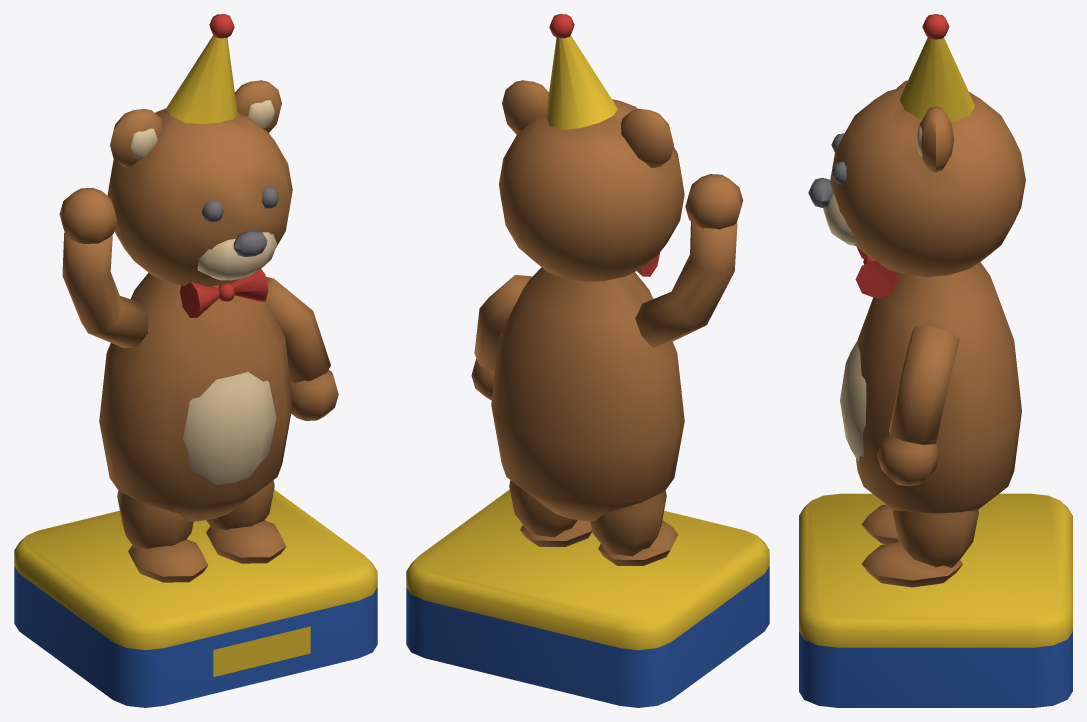
The model's file is mascot.glb.
3 views of the same model, side by side, from view 1: azimuth 30°, elevation 25°; view 2: azimuth 150°, elevation 25°; view 3: azimuth 270°, elevation 25° (orthographic). The views are drawn at different scales.
Visible parts, largest first — view 1: playplace_mascot; view 2: playplace_mascot; view 3: playplace_mascot.
Boxes of the visible parts, box(x1,y1,x2,y2) form: playplace_mascot: box(14, 14, 377, 707); playplace_mascot: box(406, 14, 769, 707); playplace_mascot: box(799, 14, 1072, 707).
Size of the model in its own units: 0.84 by 1.8 by 0.702.
